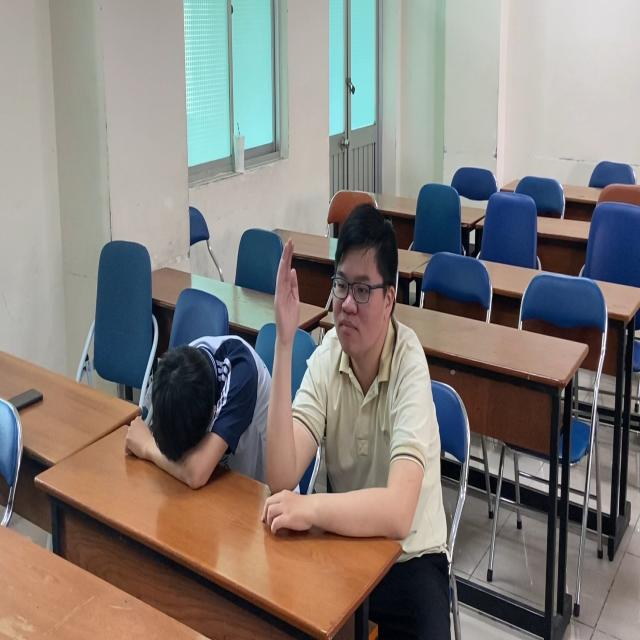raise_hand: (268, 200, 431, 551)
sleep: (122, 317, 268, 494)
